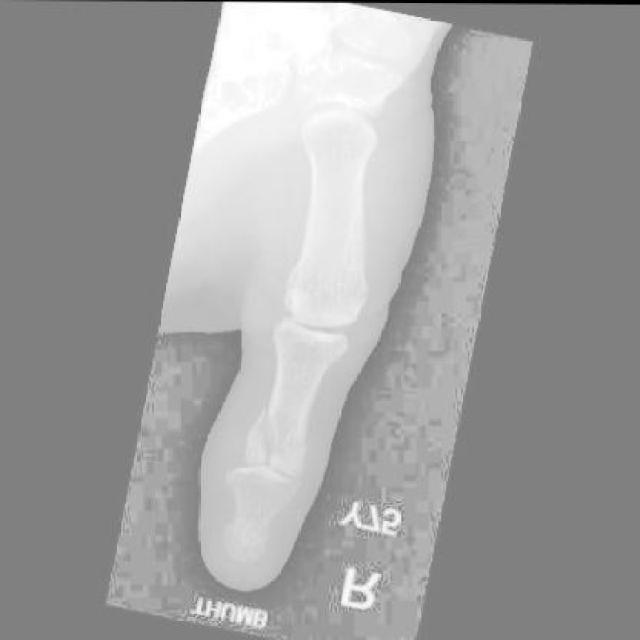bone: (241, 404, 304, 469)
